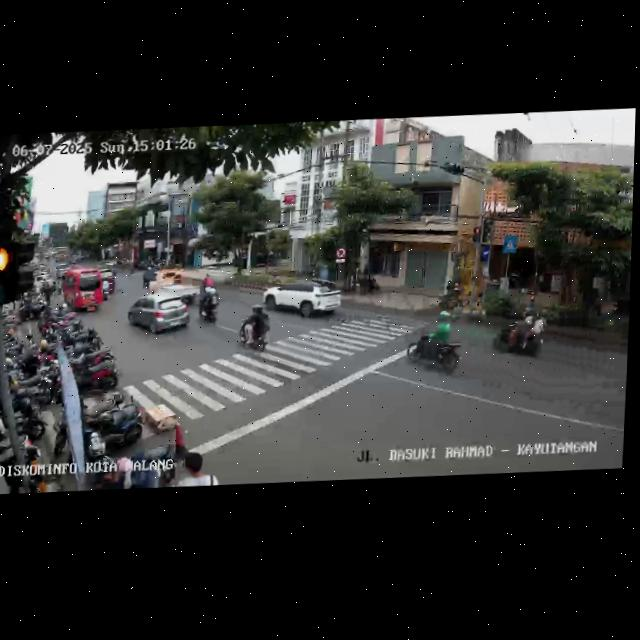car: (258, 275, 343, 325), (125, 291, 192, 342), (58, 264, 105, 315), (153, 266, 191, 295)
motorcycle: (403, 312, 465, 379), (490, 295, 548, 359), (237, 303, 272, 354), (195, 278, 220, 322), (102, 274, 114, 299), (142, 264, 154, 288)
person: (170, 448, 220, 488)
